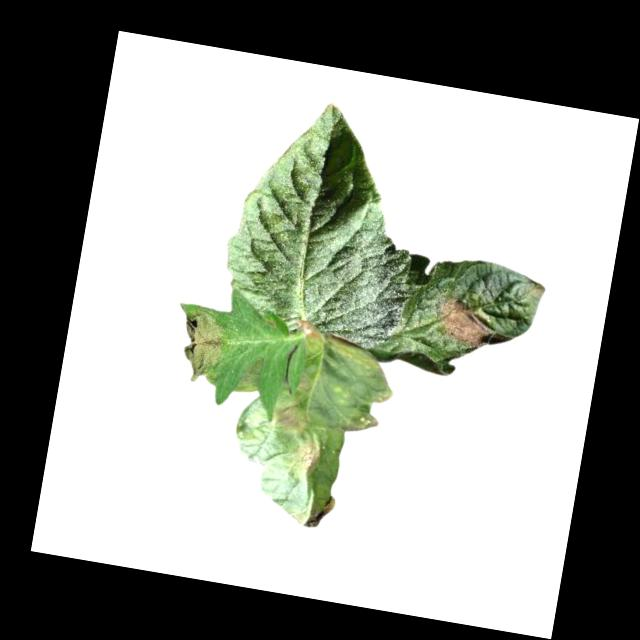Late_blight: (170, 303, 229, 386), (428, 293, 499, 355), (322, 331, 379, 368), (230, 350, 268, 397), (268, 395, 315, 433), (285, 434, 324, 477), (301, 488, 336, 531), (334, 404, 382, 435), (290, 317, 322, 343)
healthy: (211, 88, 437, 353)
